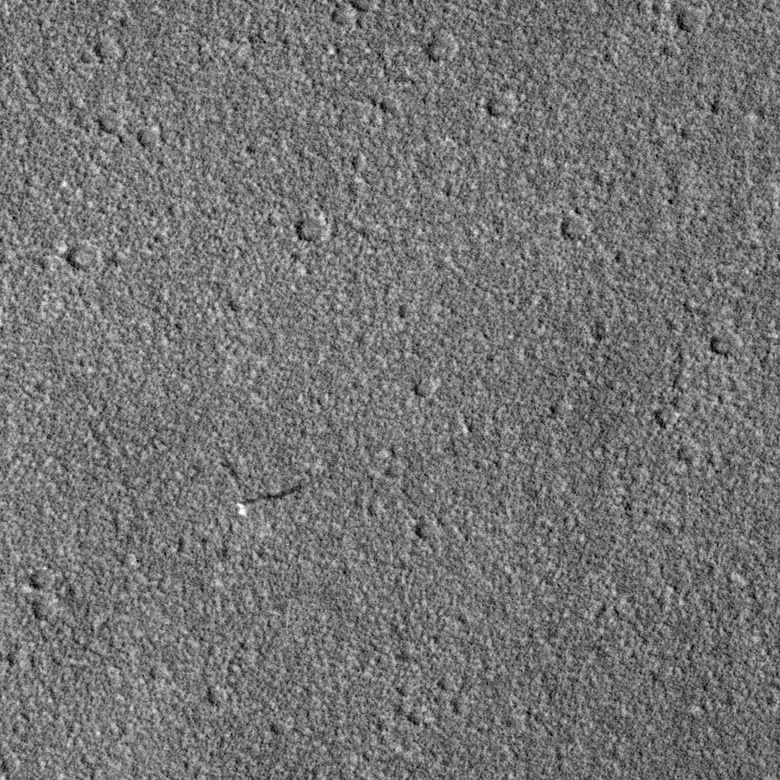dust_devil: (232, 480, 310, 520)
